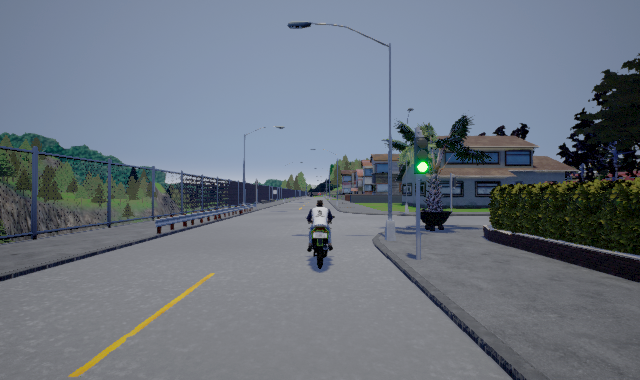motobike: (305, 198, 336, 269)
traffic_light: (414, 130, 429, 181)
